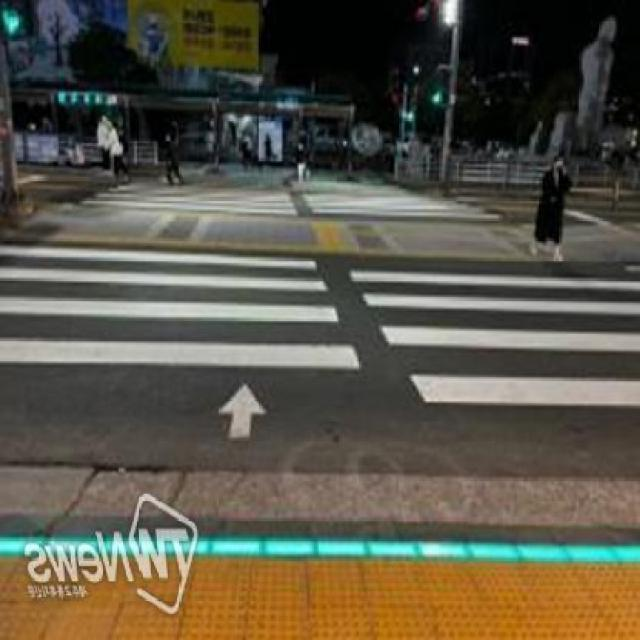Pedestrian crosswalk: (2, 252, 640, 490), (69, 188, 497, 219)
